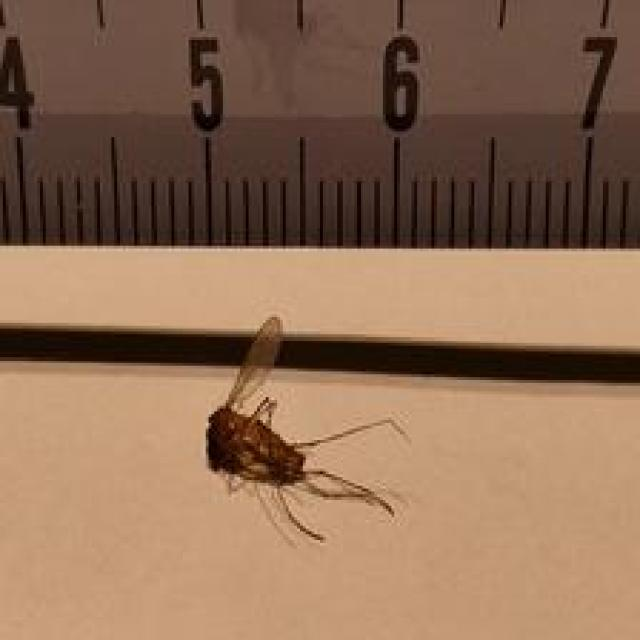Culex: (203, 314, 411, 549)
